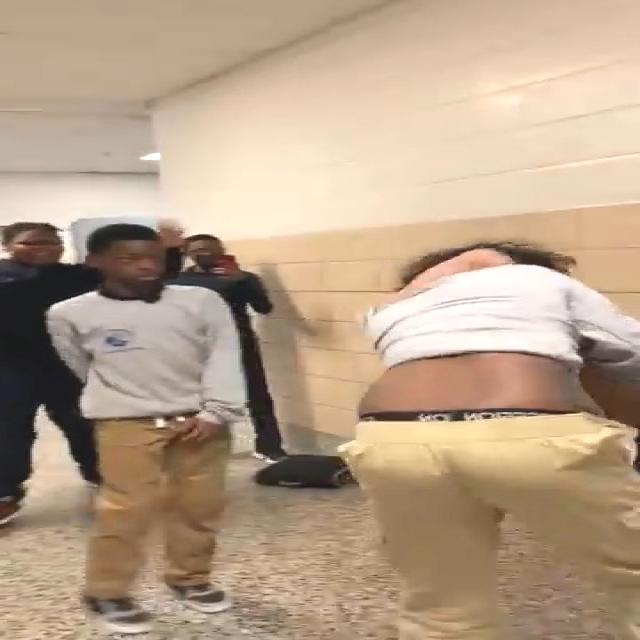fight: (352, 230, 630, 640)
